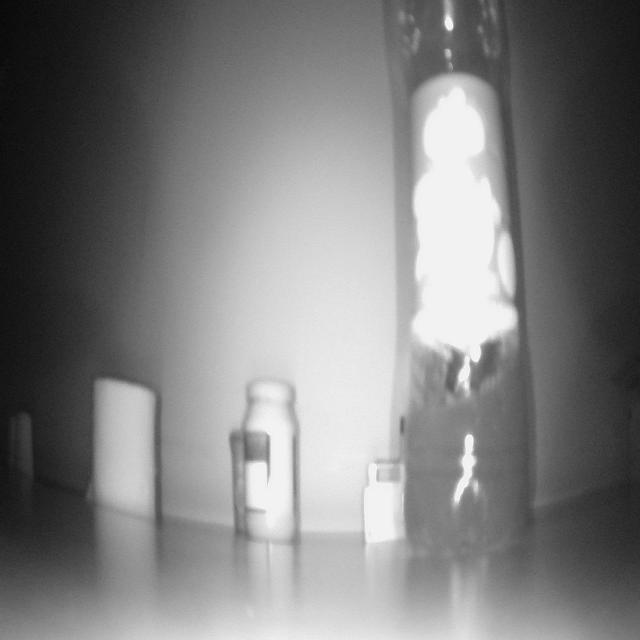targets: (399, 0, 524, 562), (230, 378, 302, 543), (90, 379, 160, 513), (8, 409, 34, 476)
